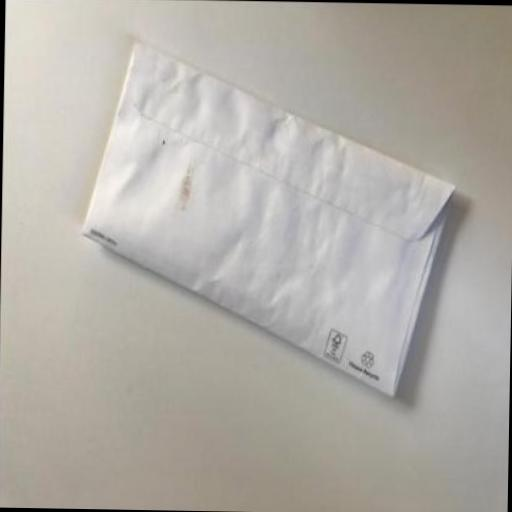paper: (78, 38, 455, 392)
